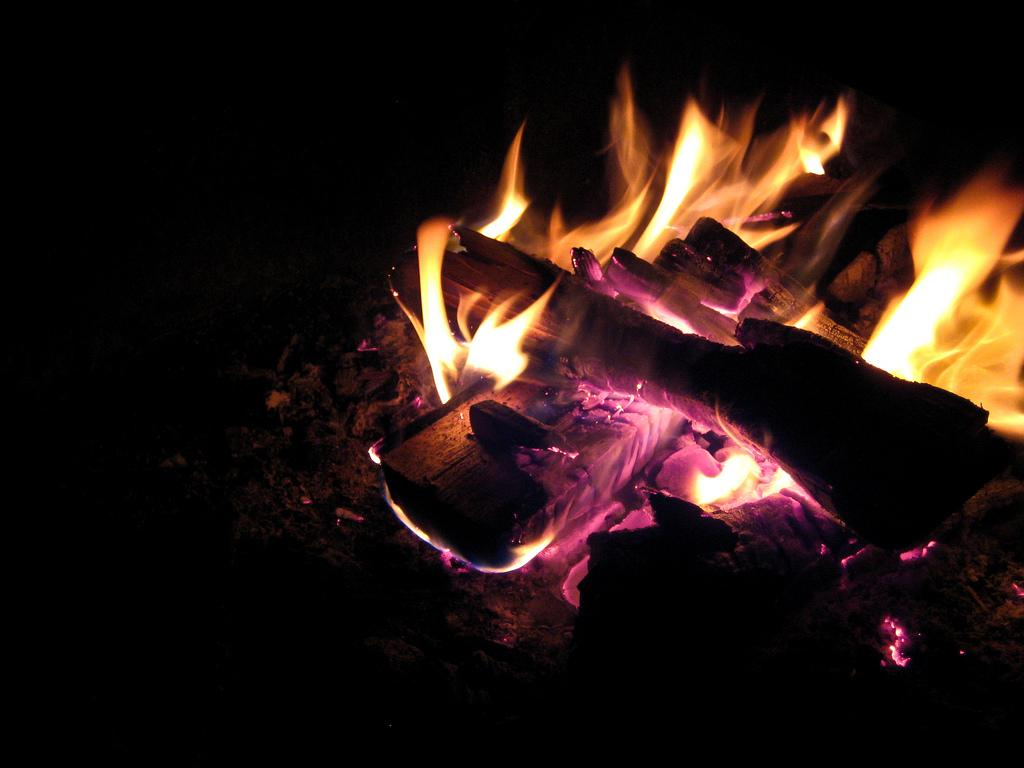fire: (882, 252, 982, 378), (420, 296, 526, 388), (644, 124, 752, 210)
